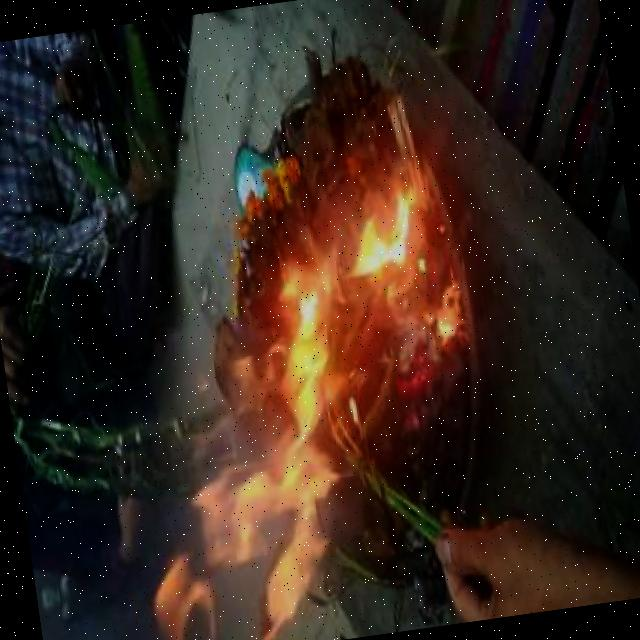fire: (179, 239, 389, 639), (328, 138, 472, 360), (137, 470, 237, 640)
